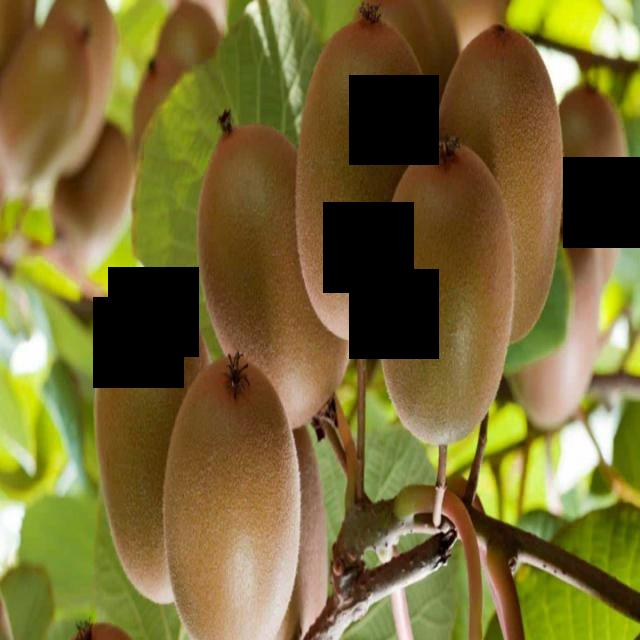kiwi: (196, 124, 356, 435), (301, 16, 436, 345), (431, 30, 566, 351), (380, 141, 517, 454), (96, 292, 232, 607), (165, 356, 303, 640)
